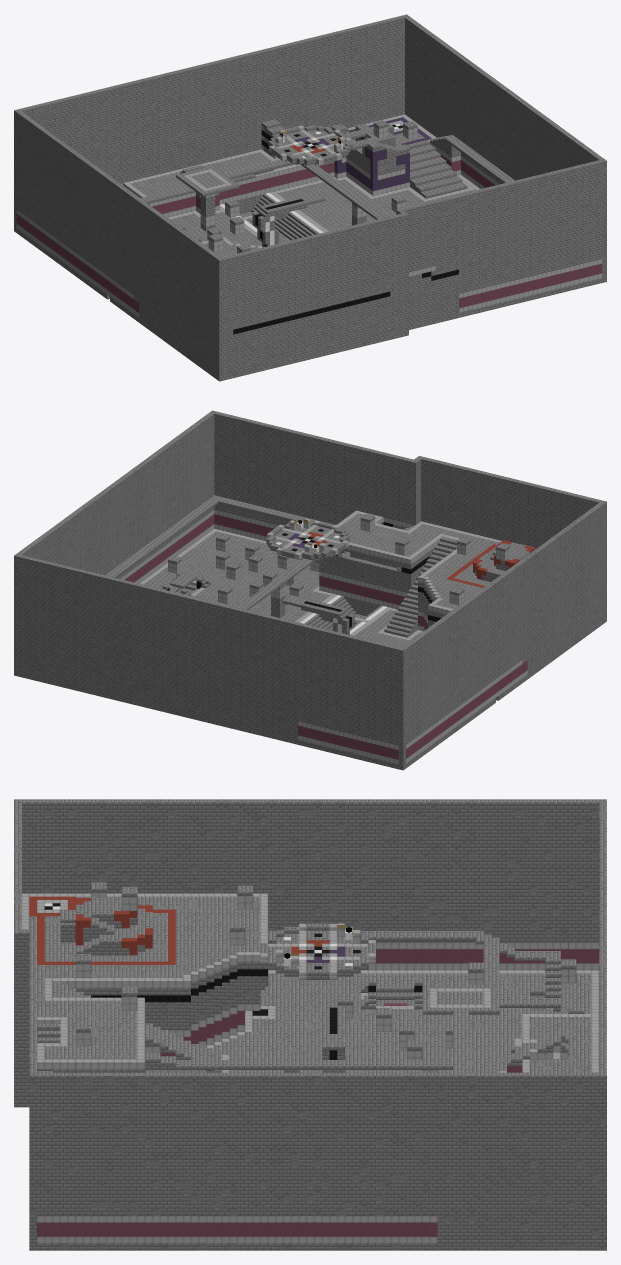
Rendered from minecraft.obj.
3 renders of one model, top to bottom at view 1: azimuth 30°, elevation 25°; view 2: azimuth 150°, elevation 25°; view 3: azimuth 270°, elevation 25°, orthographic. The views are drawn at different scales.
Bounding box in the file's own units: 850 × 280 × 770.
